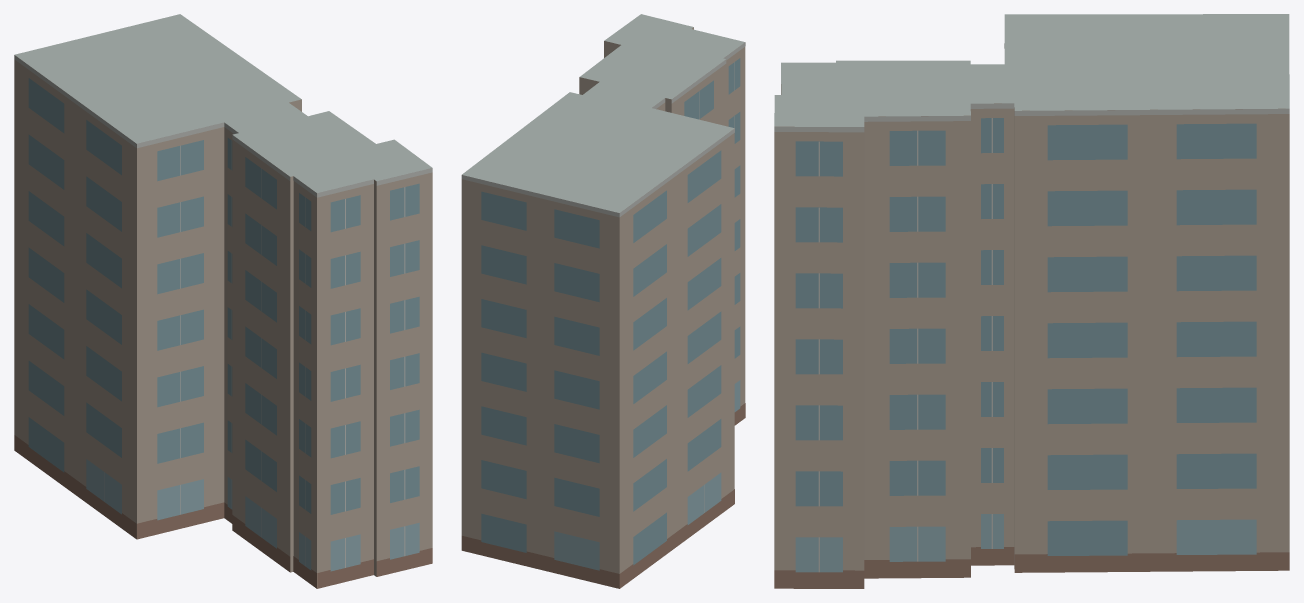
The model's file is survey-upis-32730009.glb.
3 renders of one model, left to right at view 1: azimuth 30°, elevation 25°; view 2: azimuth 150°, elevation 25°; view 3: azimuth 270°, elevation 25°, orthographic. The views are drawn at different scales.
Visible parts, largest first — view 1: survey-upis-32730009.tmp; view 2: survey-upis-32730009.tmp; view 3: survey-upis-32730009.tmp.
Boxes of the visible parts, x1,y1,x2,y2 form: survey-upis-32730009.tmp: [14, 14, 432, 588]; survey-upis-32730009.tmp: [461, 14, 745, 588]; survey-upis-32730009.tmp: [774, 14, 1289, 588].
Bounding box in the file's own units: 11.21 × 21.35 × 21.6.
